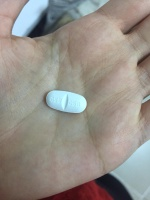Centik Buskopan: (45, 89, 88, 115)
